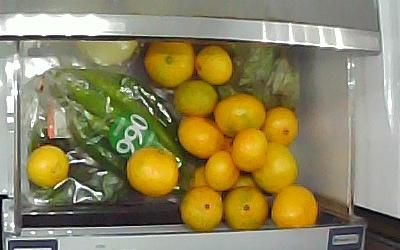tangerine: (126, 147, 179, 196), (142, 41, 195, 88), (252, 142, 298, 194), (216, 94, 266, 140), (271, 185, 319, 227), (177, 117, 225, 157), (225, 187, 268, 230), (179, 189, 222, 231), (26, 144, 67, 188), (174, 81, 219, 117), (195, 45, 234, 85), (265, 107, 300, 149), (232, 129, 267, 171), (205, 149, 238, 192), (195, 165, 221, 196), (229, 175, 260, 195)
